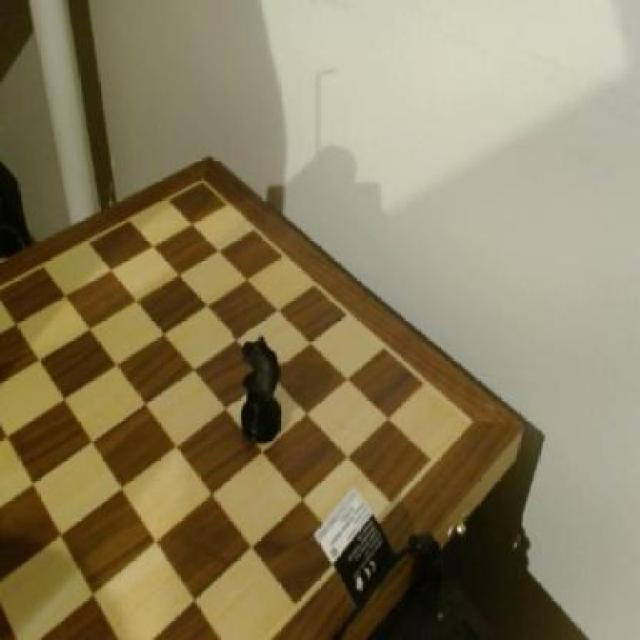black-king: (234, 329, 288, 451)
